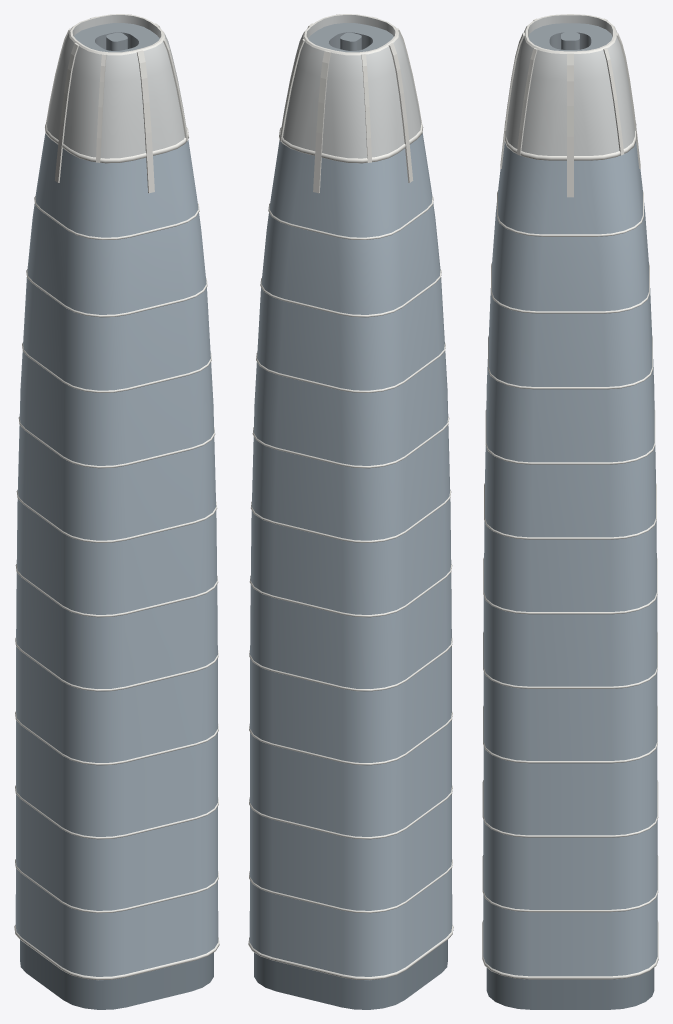
File: sf-salesforce-tower.glb
3 views of the same model, side by side, from view 1: azimuth 30°, elevation 25°; view 2: azimuth 150°, elevation 25°; view 3: azimuth 270°, elevation 25° (orthographic).
Visible parts, largest first — view 1: Salesforce Tower; view 2: Salesforce Tower; view 3: Salesforce Tower.
Part boxes in pixels (x1,y1,x2,y2): Salesforce Tower: [14, 14, 219, 1009]; Salesforce Tower: [248, 14, 453, 1009]; Salesforce Tower: [482, 14, 658, 1009].
Size of the model in its own units: 55.38 by 327 by 55.38.
